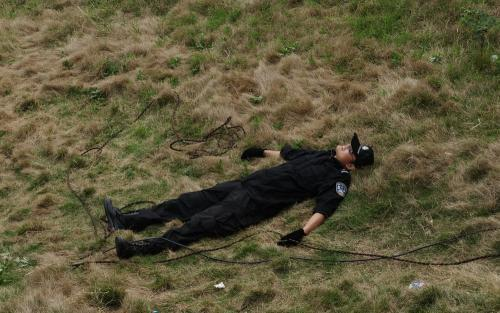Fall-Detected: (89, 124, 373, 259)
